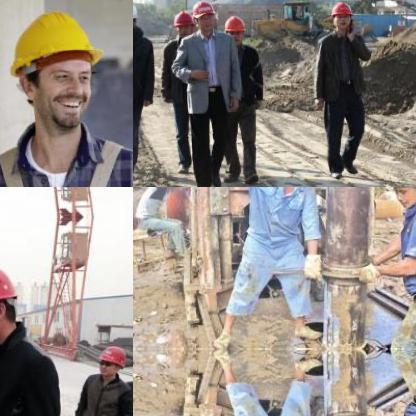Helmet: (6, 0, 113, 150), (0, 264, 21, 345), (94, 344, 126, 378), (330, 0, 357, 33), (191, 0, 216, 33), (170, 7, 194, 39), (223, 12, 247, 44), (385, 187, 415, 206), (133, 0, 141, 34)
